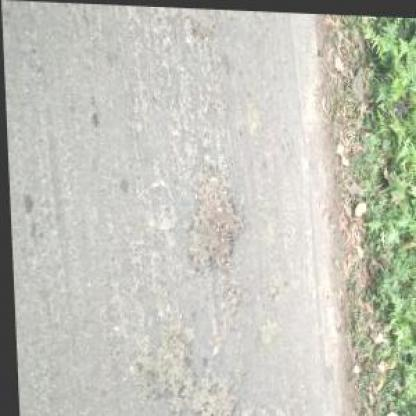pothole: (182, 160, 244, 273), (144, 326, 193, 416)
